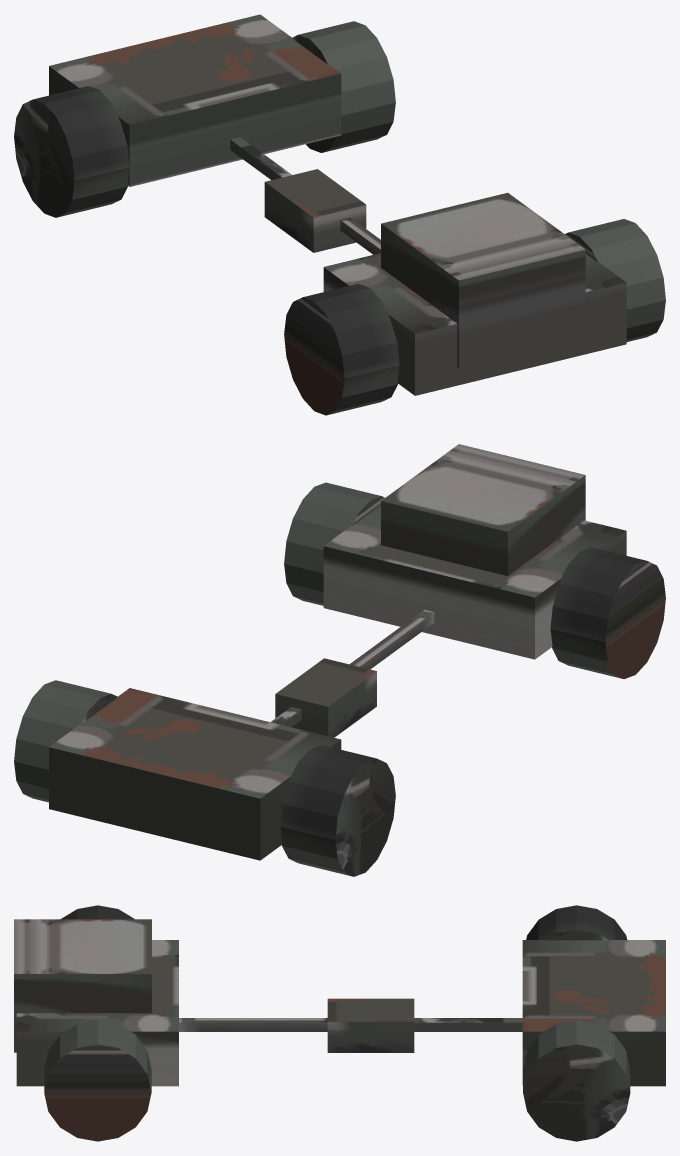
File: Building_AncientRustedCarFrame.obj
3 views of the same model, one above another, from view 1: azimuth 30°, elevation 25°; view 2: azimuth 150°, elevation 25°; view 3: azimuth 270°, elevation 25° (orthographic). The views are drawn at different scales.
Parts seen in each view (by area): view 1: Body; view 2: Body; view 3: Body.
Boxes of the visible parts, bbox=[...] form: Body: bbox=[14, 14, 665, 415]; Body: bbox=[14, 444, 665, 876]; Body: bbox=[14, 905, 665, 1141].
Bounding box in the file's own units: 1.9 × 0.8 × 3.77.
Materials: 1 (1 with a texture image).
